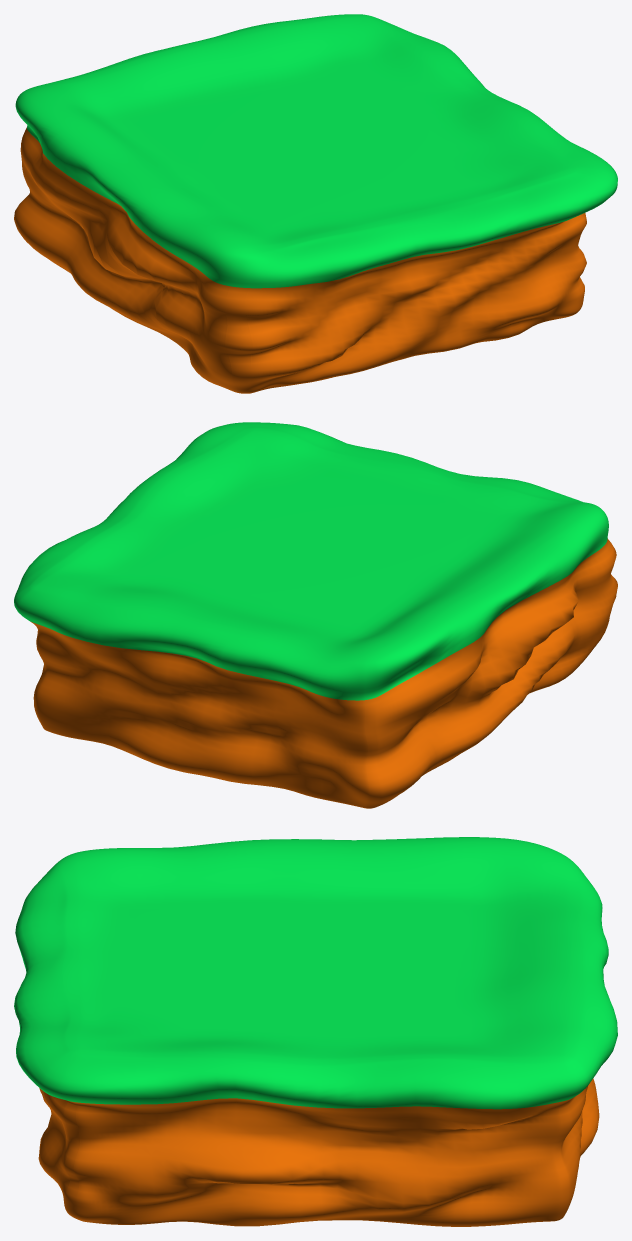
The model's file is Platform2.fbx.
The picture shows the model from 3 angles, top to bottom: view 1: azimuth 30°, elevation 25°; view 2: azimuth 150°, elevation 25°; view 3: azimuth 270°, elevation 25°; orthographic projection. The views are drawn at different scales.
Visible parts, largest first — view 1: PlatformFlat; view 2: PlatformFlat; view 3: PlatformFlat.
Part boxes in pixels (x1,y1,x2,y2): PlatformFlat: (14, 14, 617, 393); PlatformFlat: (14, 422, 617, 808); PlatformFlat: (14, 837, 617, 1226).
Size of the model in its own units: 583 by 214 by 616.
